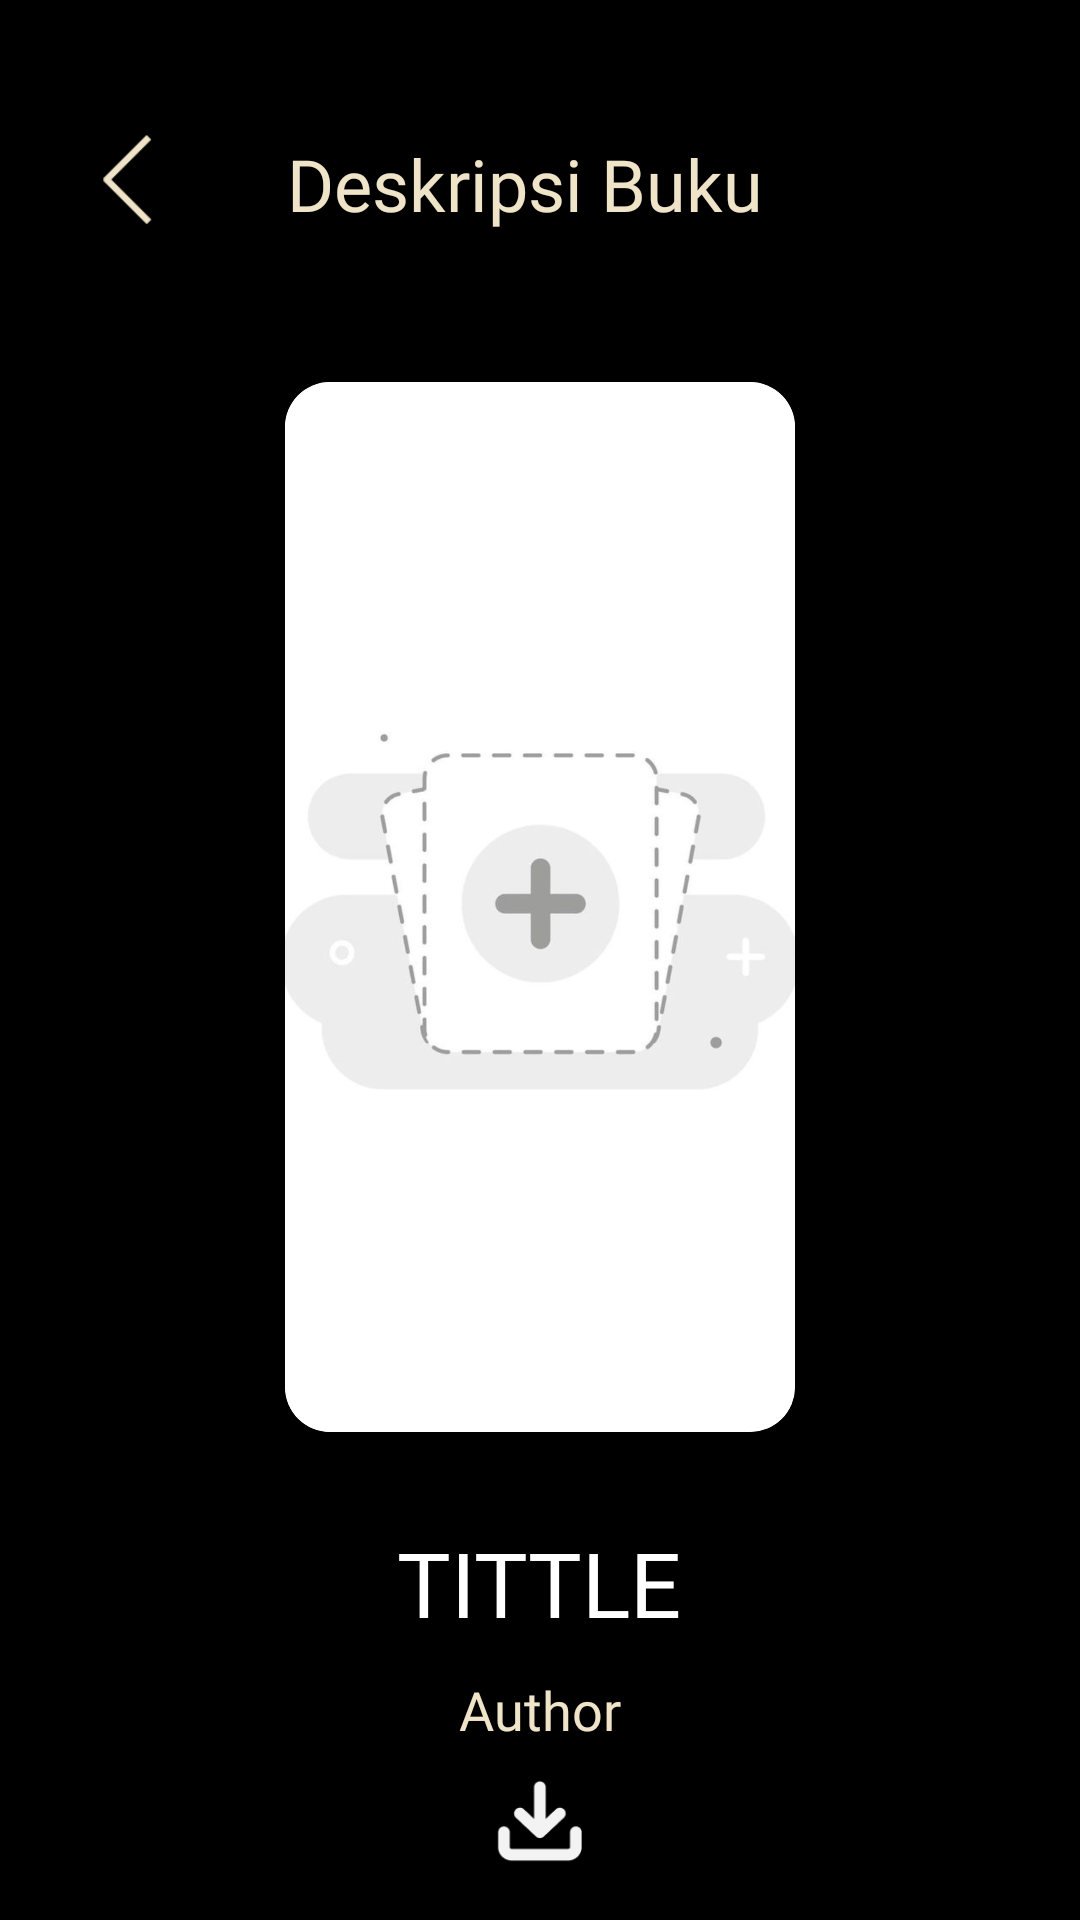

Where to tap for icons on this 1080px x 1920px app screen, as point (x, y):
back main: point (127, 179)
download: point (539, 1821)
